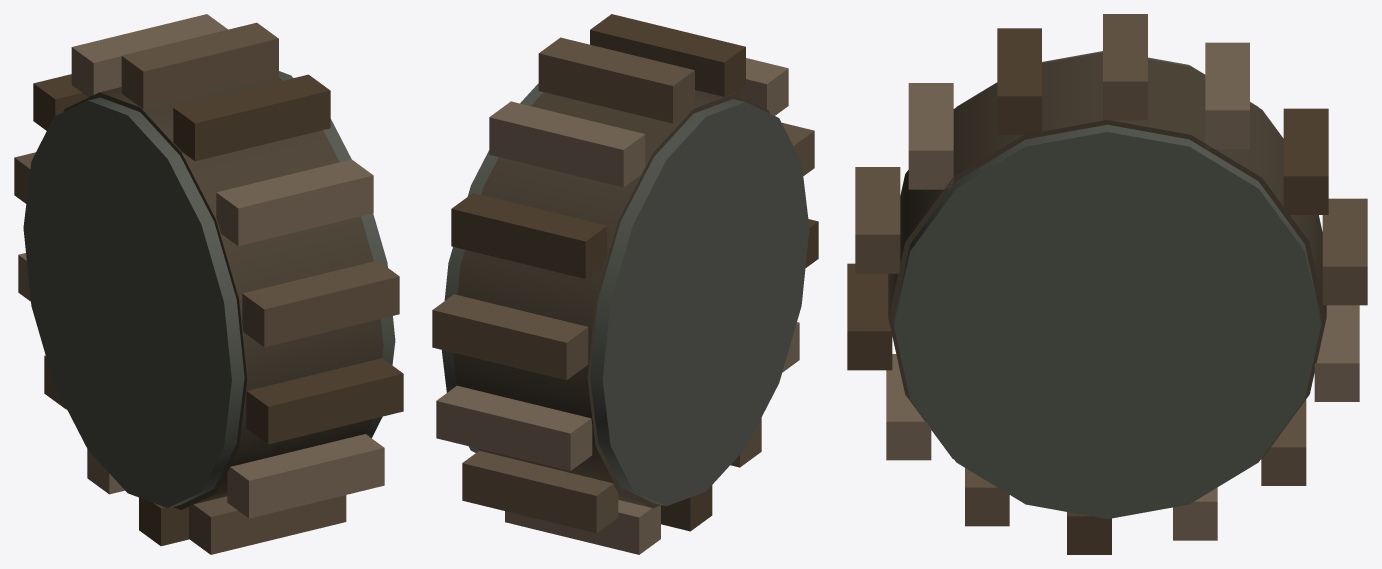
Rendered from CMU3DGearMovingD1F2Cloud.glb.
The picture shows the model from 3 angles, left to right: view 1: azimuth 30°, elevation 25°; view 2: azimuth 150°, elevation 25°; view 3: azimuth 270°, elevation 25°; orthographic projection. The views are drawn at different scales.
Visible parts, largest first — view 1: plain near gear cheek, narrow dark gear drum, axial tooth 4, axial tooth 7, axial tooth 5, axial tooth 6, axial tooth 8, axial tooth 9, axial tooth 10, axial tooth 3, plain far gear cheek, axial tooth 11 (+3 smaller); view 2: plain near gear cheek, narrow dark gear drum, axial tooth 4, axial tooth 1, axial tooth 3, axial tooth 2, axial tooth 0, axial tooth 13, axial tooth 5, axial tooth 12, axial tooth 6, plain far gear cheek (+4 smaller); view 3: plain far gear cheek, narrow dark gear drum, axial tooth 7, axial tooth 6, axial tooth 2, axial tooth 1, axial tooth 4, axial tooth 3, axial tooth 5, axial tooth 8, axial tooth 0, axial tooth 9 (+4 smaller).
Boxes of the visible parts, x1,y1,x2,y2 form: plain near gear cheek: (23, 97, 244, 507); narrow dark gear drum: (63, 76, 383, 509); axial tooth 4: (121, 22, 278, 109); axial tooth 7: (242, 260, 399, 347); axial tooth 5: (173, 74, 330, 161); axial tooth 6: (216, 159, 373, 246); axial tooth 8: (246, 358, 403, 444); axial tooth 9: (227, 434, 384, 518); axial tooth 10: (189, 495, 346, 554); axial tooth 3: (71, 14, 227, 96); plain far gear cheek: (279, 71, 395, 438); axial tooth 11: (139, 497, 188, 546); plain near gear cheek: (590, 99, 809, 506); narrow dark gear drum: (453, 90, 769, 508); axial tooth 4: (538, 37, 694, 123); axial tooth 1: (432, 294, 588, 380); axial tooth 3: (489, 101, 645, 187); axial tooth 2: (451, 193, 607, 278); axial tooth 0: (436, 385, 592, 470); axial tooth 13: (462, 450, 618, 533); axial tooth 5: (590, 14, 745, 96); axial tooth 12: (505, 500, 660, 554); axial tooth 6: (733, 58, 788, 115); plain far gear cheek: (441, 83, 543, 452); plain far gear cheek: (893, 124, 1321, 519); narrow dark gear drum: (888, 52, 1326, 459); axial tooth 7: (855, 167, 900, 273); axial tooth 6: (908, 83, 953, 189); axial tooth 2: (1283, 108, 1328, 214); axial tooth 1: (1322, 198, 1367, 305); axial tooth 4: (1103, 14, 1147, 120); axial tooth 3: (1205, 42, 1249, 148); axial tooth 5: (997, 28, 1041, 134); axial tooth 8: (847, 263, 892, 370); axial tooth 0: (1314, 305, 1359, 401); axial tooth 9: (886, 354, 931, 460).
Size of the model in its own units: 0.181 by 0.4887 by 0.487.
